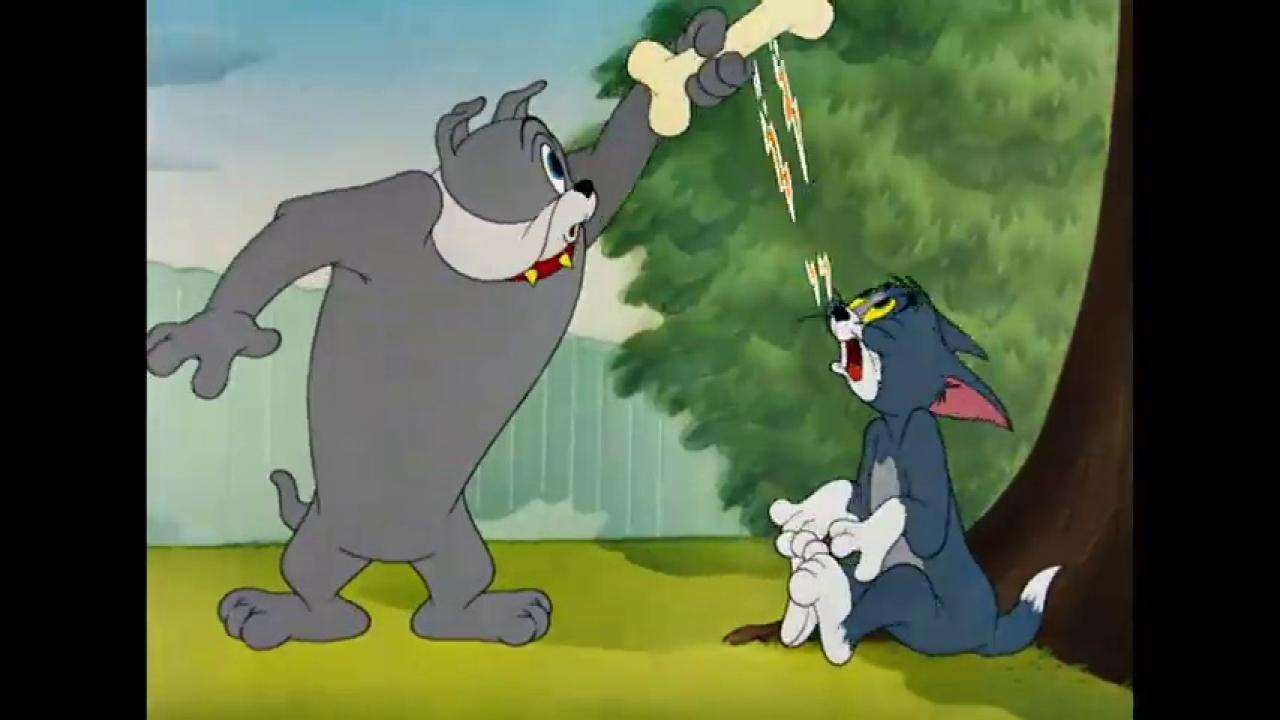Tom: (766, 271, 1062, 668)
